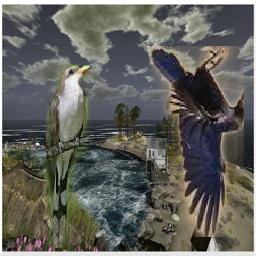Crow: (150, 47, 245, 238)
Cuckoo: (46, 64, 90, 248)
